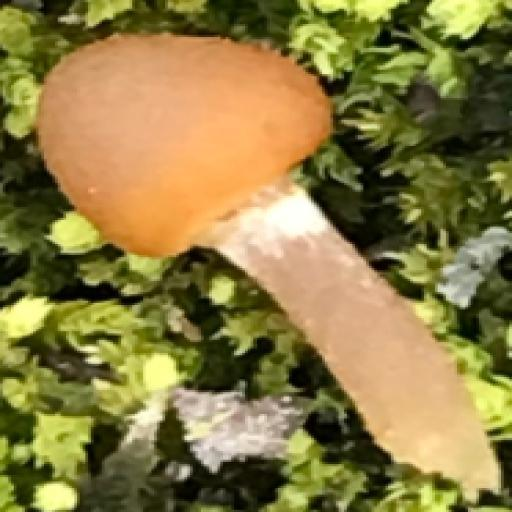mushroom: (38, 29, 399, 365)
